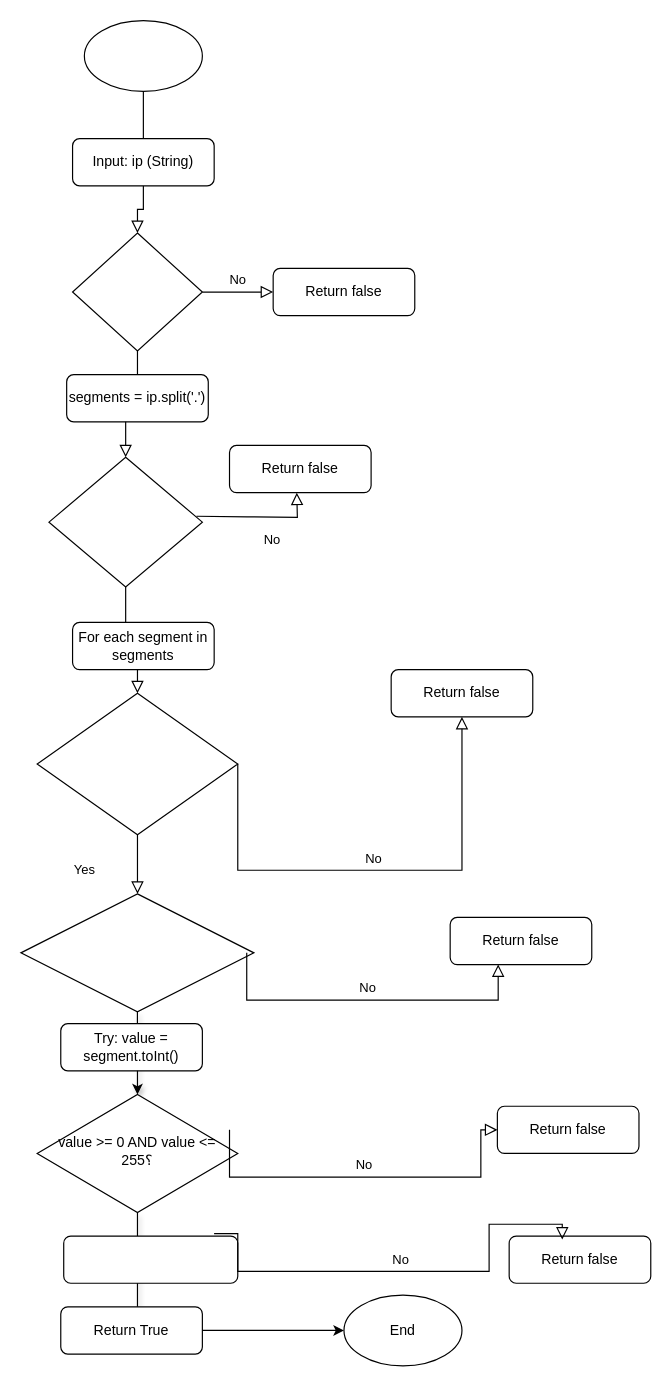
Image size: 671x1386. Some labels were removed from this diagram. The centre of each missing label's shape, as x and y in pixels:
"Catch NumberFormatException" goes at (x=150, y=1259).
"ip.trim() == ip؟" goes at (x=136, y=291).
"segment.isEmpty()؟" goes at (x=137, y=763).
"segment.length > 1 AND segment[0] == '0'؟" goes at (x=137, y=952).
"segments.size == 4؟" goes at (x=125, y=521).
"Start" goes at (x=142, y=55).
